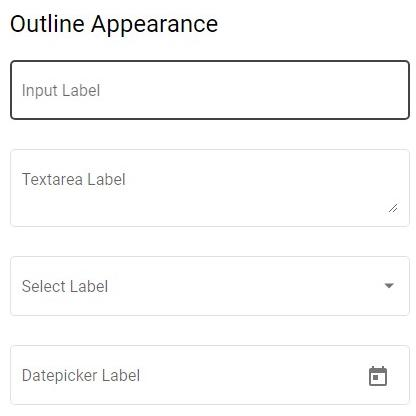field: (8, 146, 412, 229), (5, 253, 414, 320), (7, 58, 410, 124), (9, 342, 412, 408)
